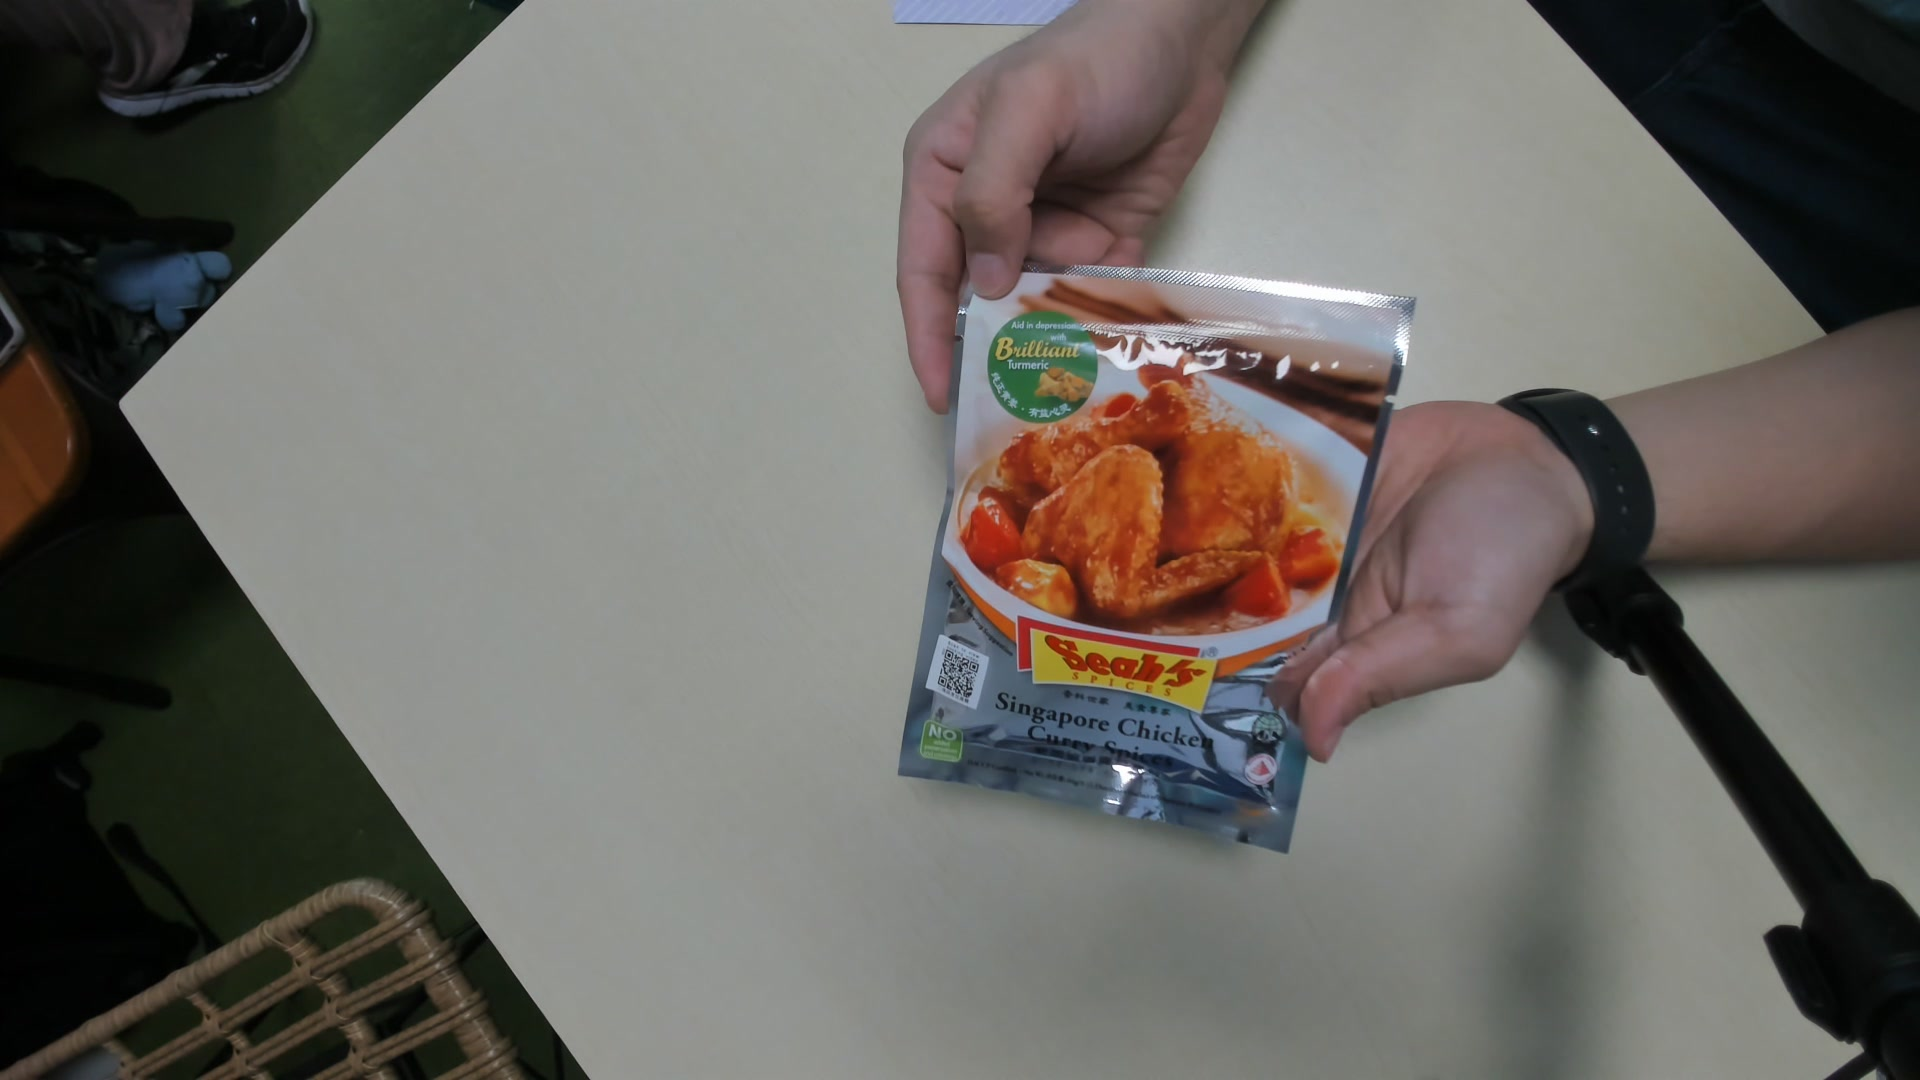CurryPastePowderSauce_0-99g_Halal_Healthy: (910, 268, 1415, 855)
